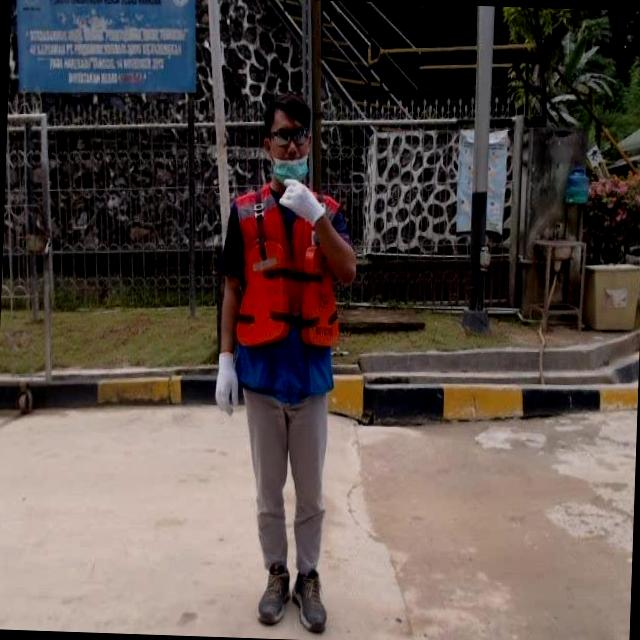boots: (291, 568, 330, 636), (256, 559, 294, 626)
gloves: (193, 325, 264, 427), (268, 170, 344, 252)
no-helmet: (250, 91, 327, 202)
vest: (225, 181, 348, 398)
